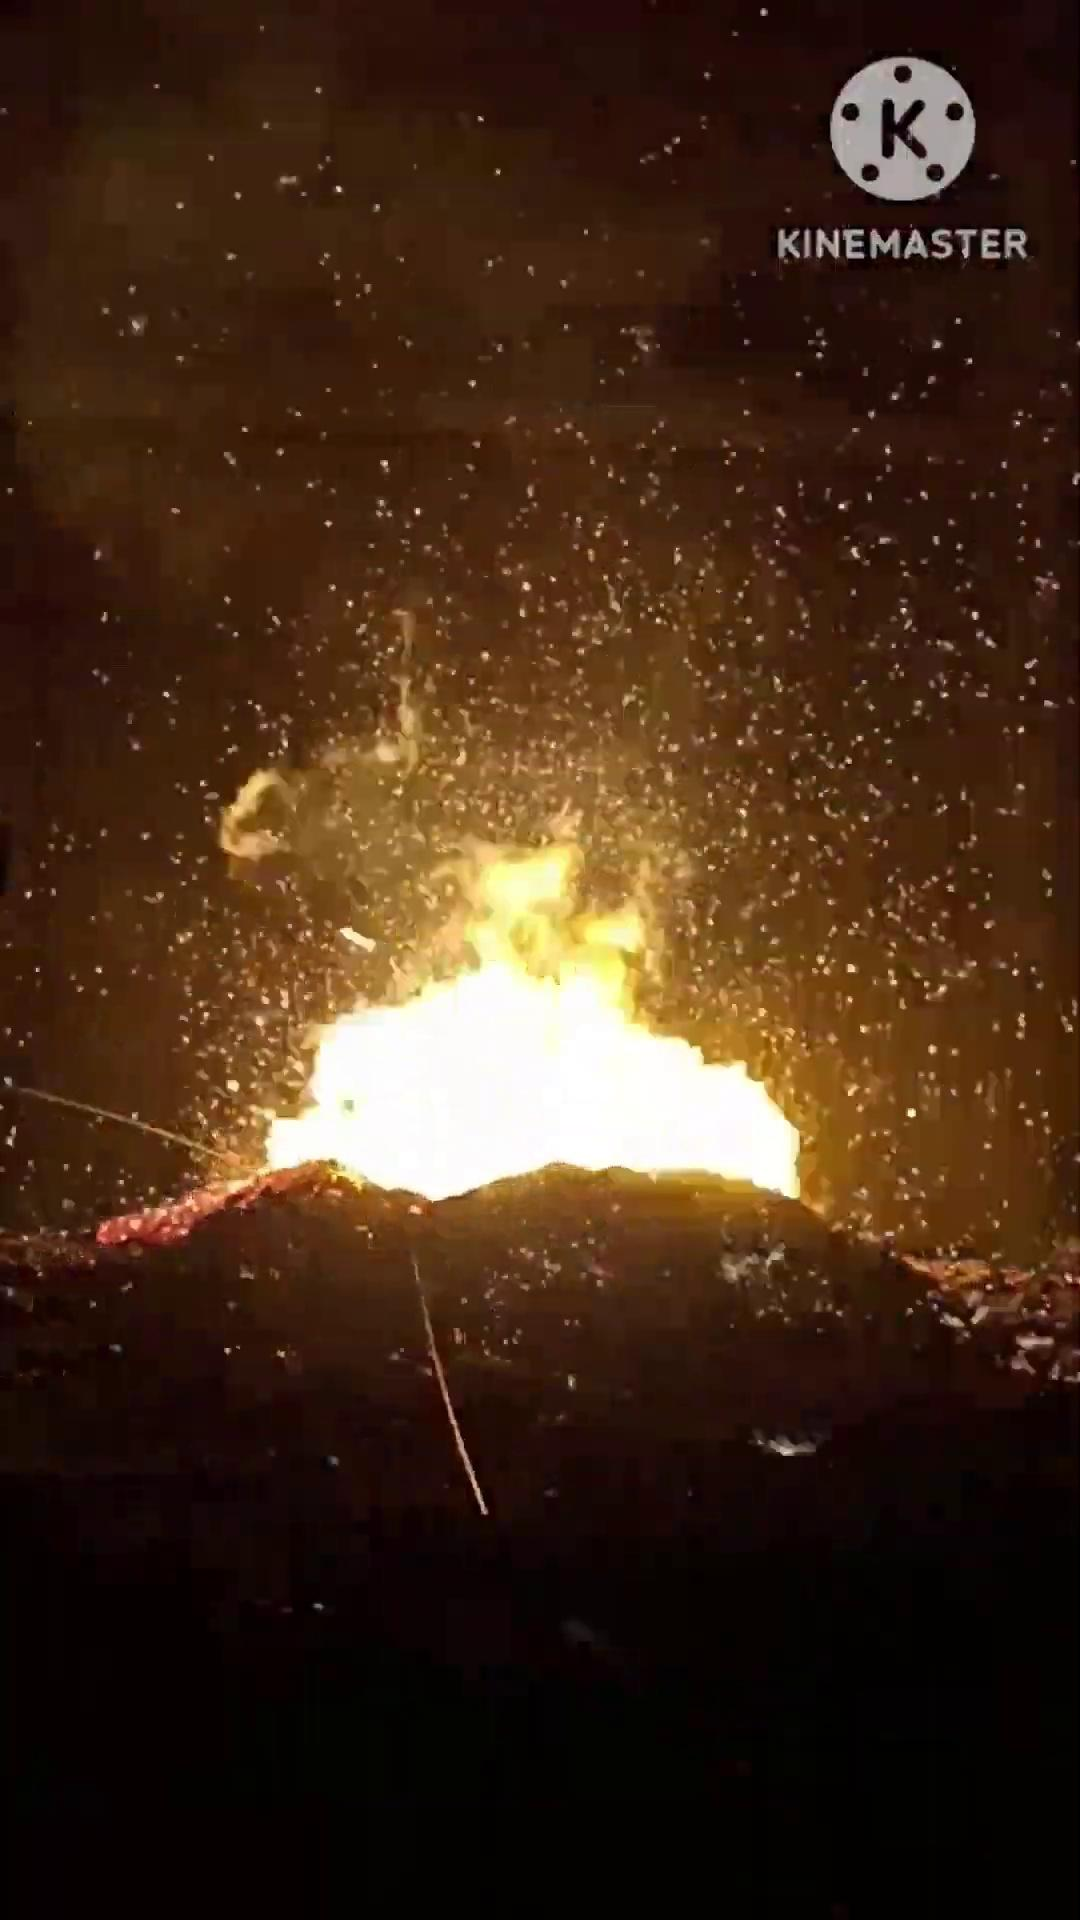fire: (18, 272, 1064, 1482)
